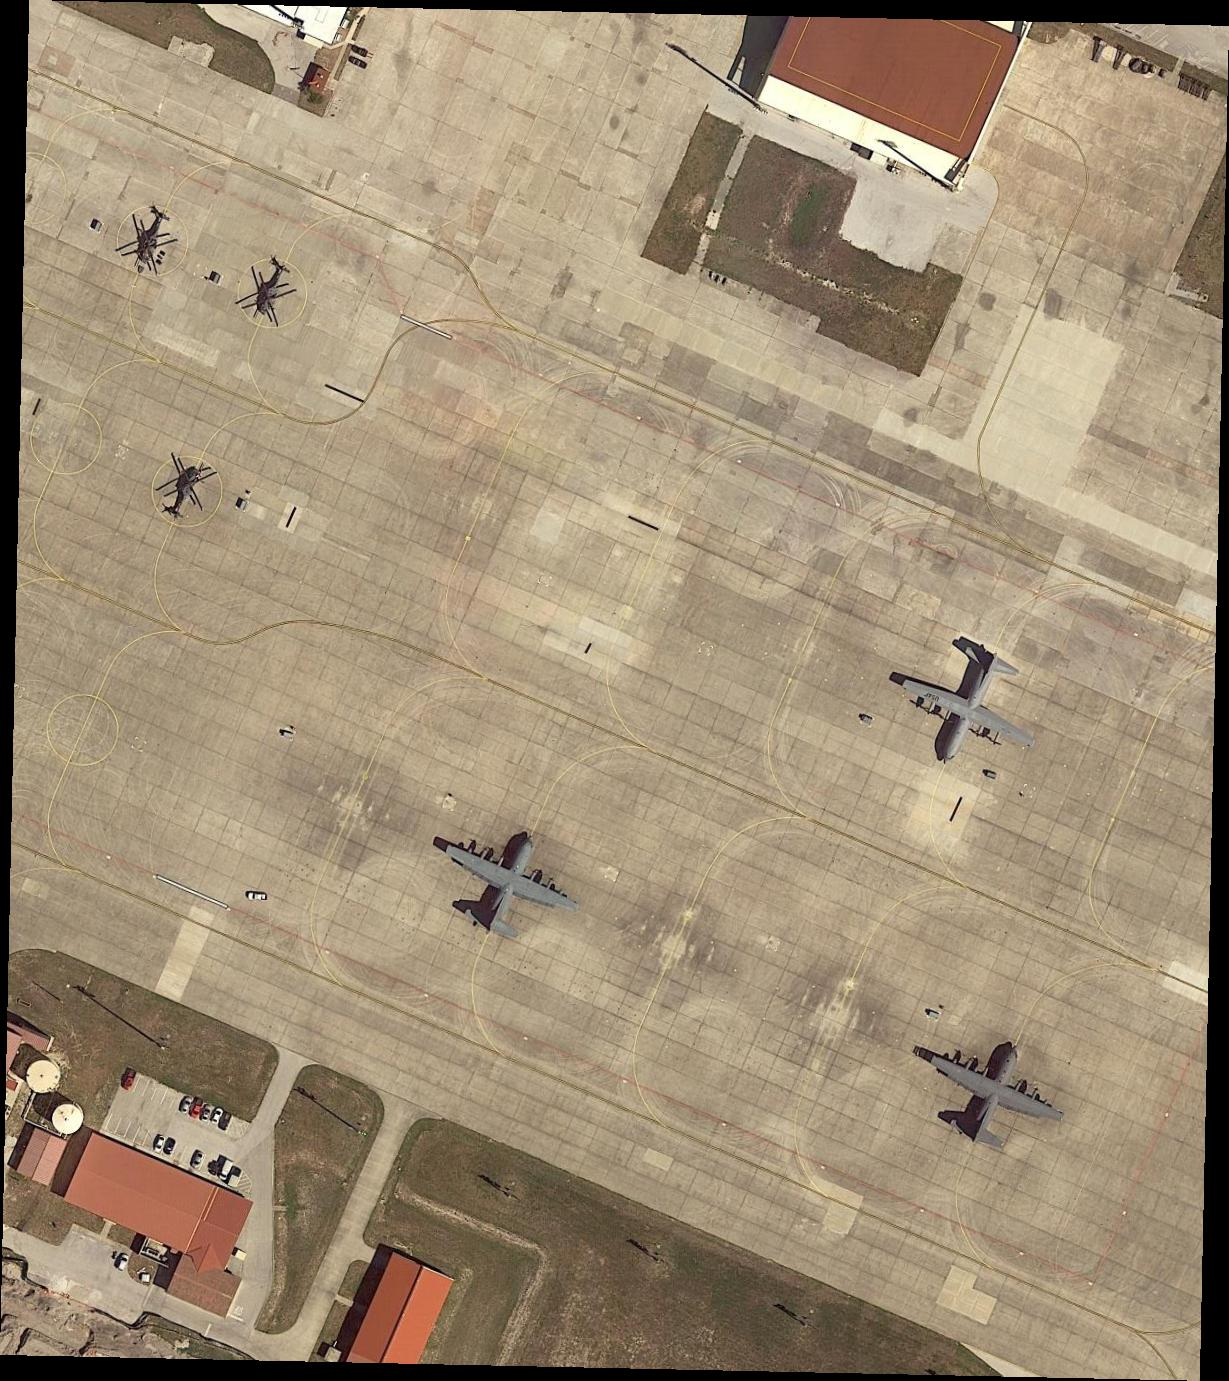plane: (881, 621, 1059, 794), (902, 1008, 1085, 1173), (424, 803, 598, 962)
